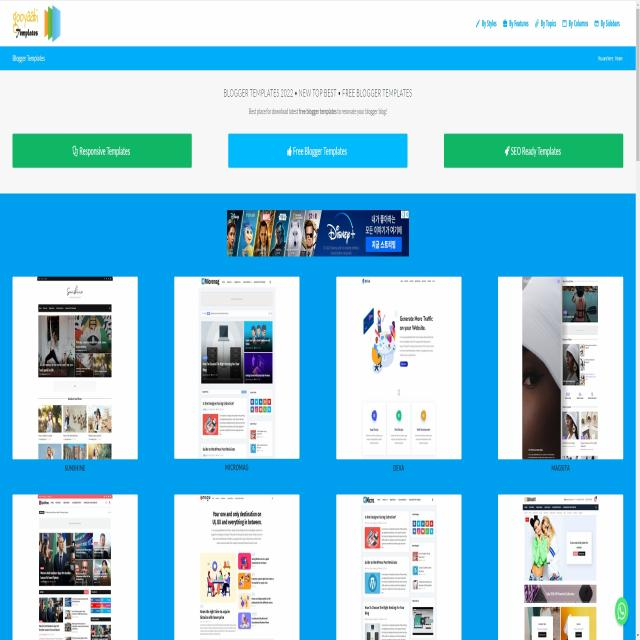tab-bar: (472, 11, 624, 39)
